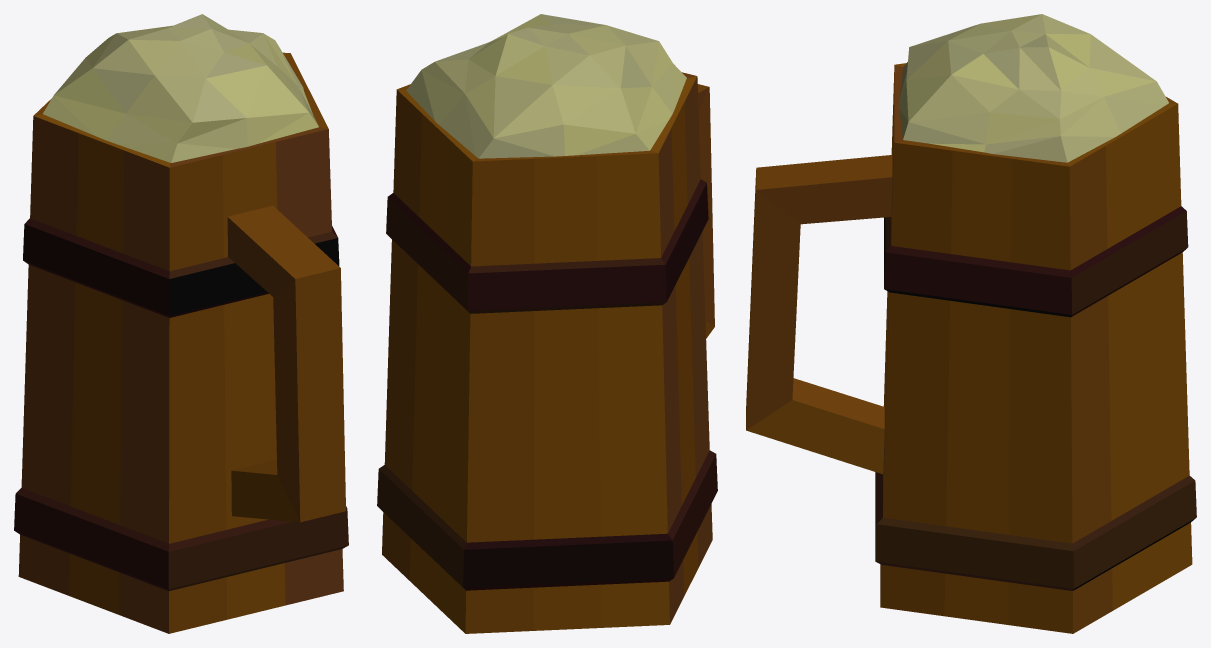
File: WoodenTankardFullFoam.glb
The picture shows the model from 3 angles, left to right: view 1: azimuth 30°, elevation 25°; view 2: azimuth 150°, elevation 25°; view 3: azimuth 270°, elevation 25°; orthographic projection.
Visible parts, largest first — view 1: WoodenTankardFullFoam; view 2: WoodenTankardFullFoam; view 3: WoodenTankardFullFoam.
Part boxes in pixels (x1,y1,x2,y2): WoodenTankardFullFoam: (14,14,348,633); WoodenTankardFullFoam: (377,14,717,633); WoodenTankardFullFoam: (746,14,1196,633).
Bounding box in the file's own units: 0.1695 × 0.2944 × 0.226.
